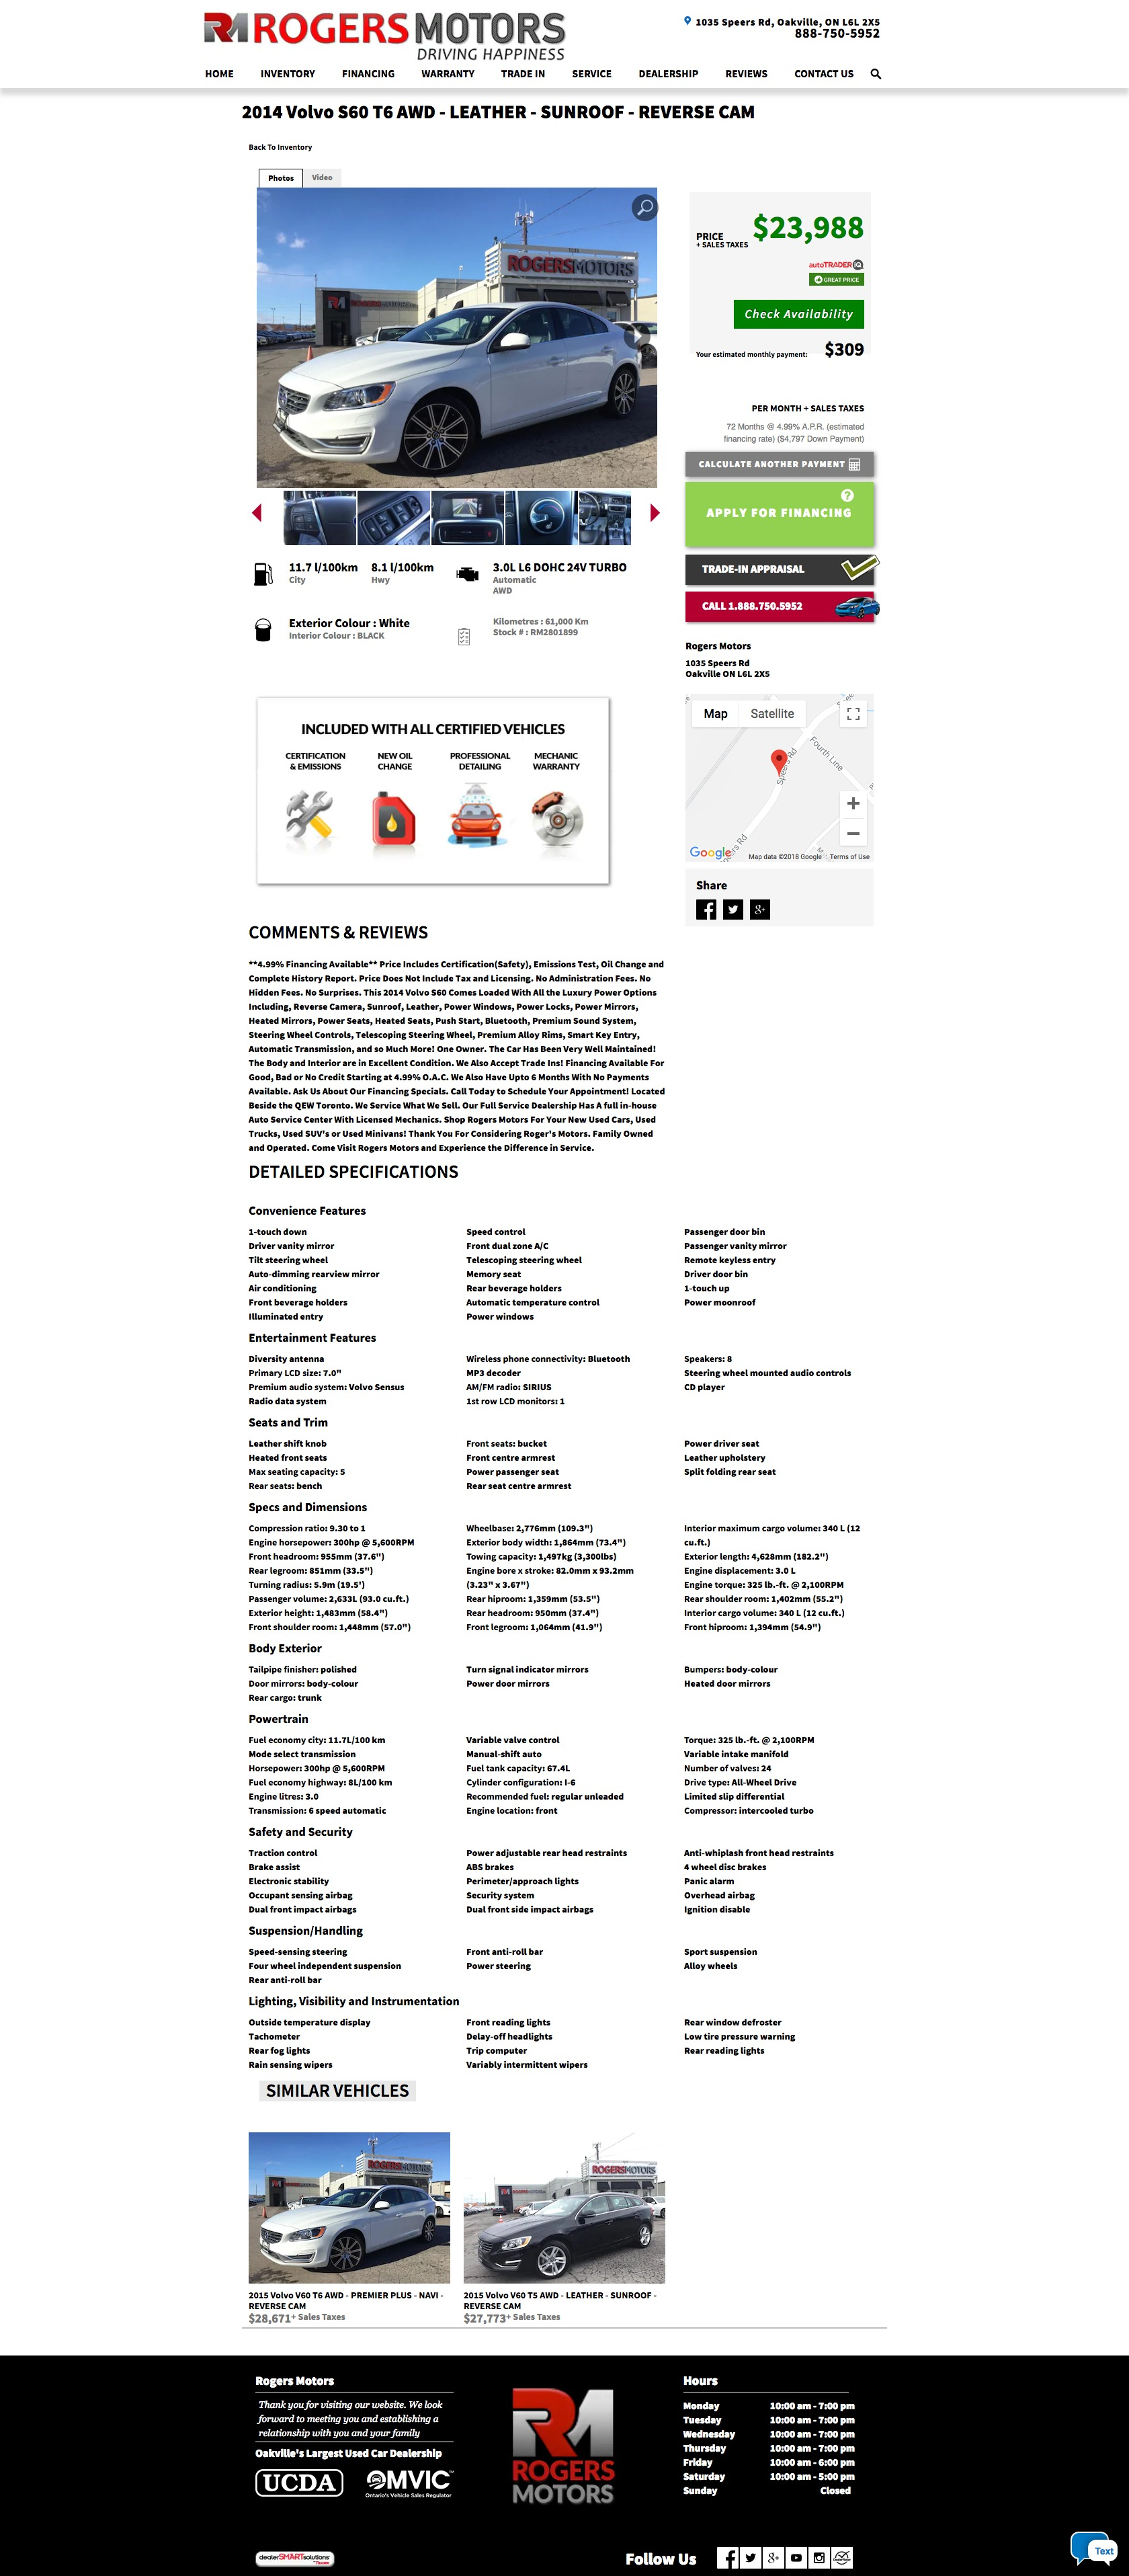car: (651, 503, 661, 524)
